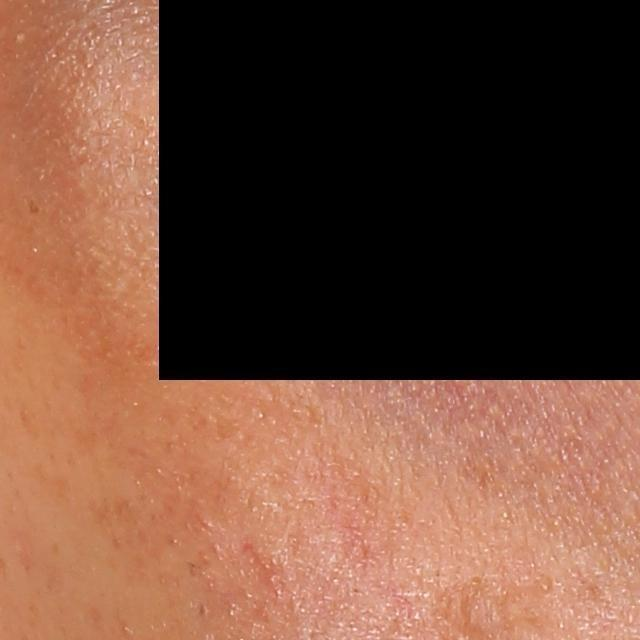melasma: (27, 199, 42, 217)
